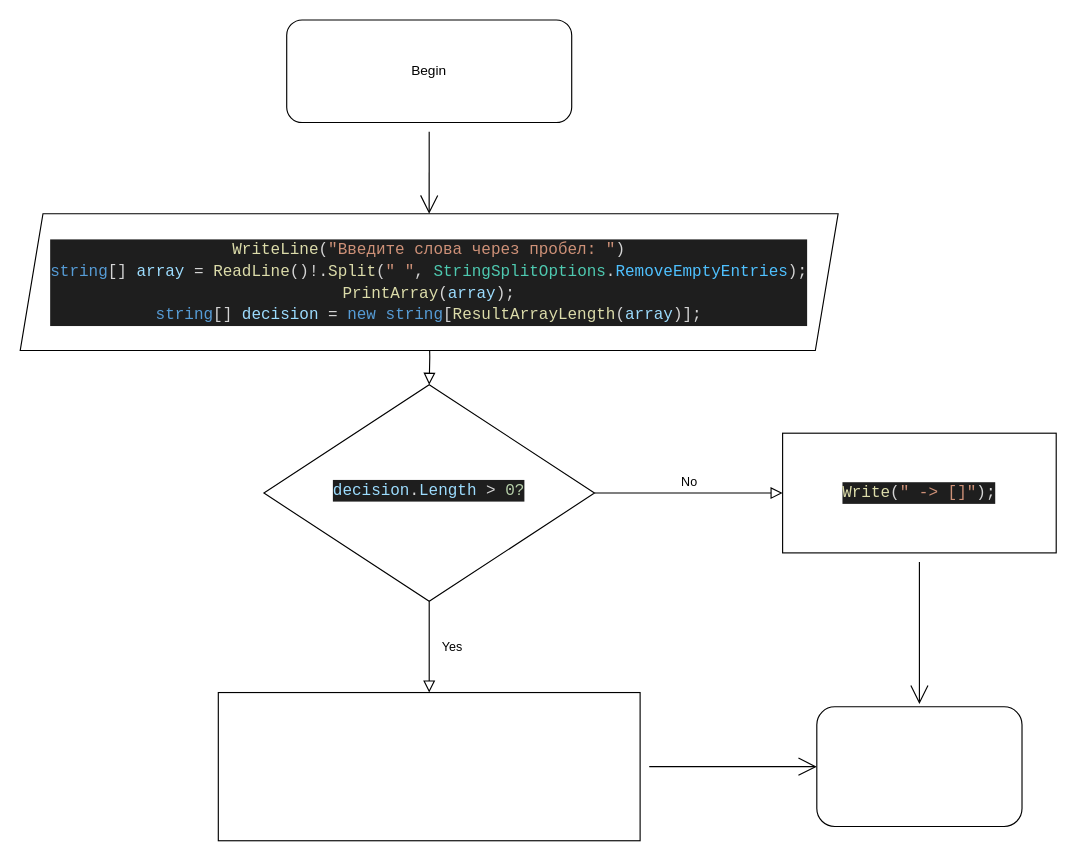
Some shapes in this 1076 by 861 pixel diagram are drawn without their labels. The centre of each missing label's shape, as x and y in pixels:
END: (x=919, y=766)
GetResultArray ( decision , array ); Write ( " -> " ); PrintArray ( decision );: (x=428, y=766)
